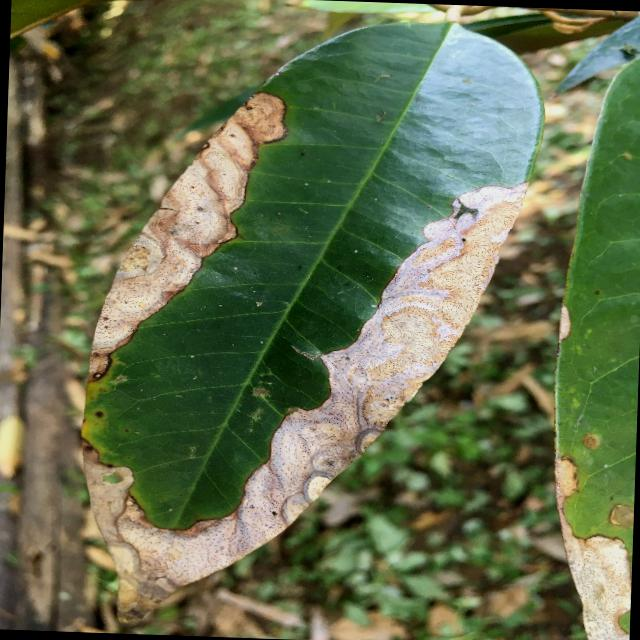Leaf Blight: (71, 2, 555, 639)
